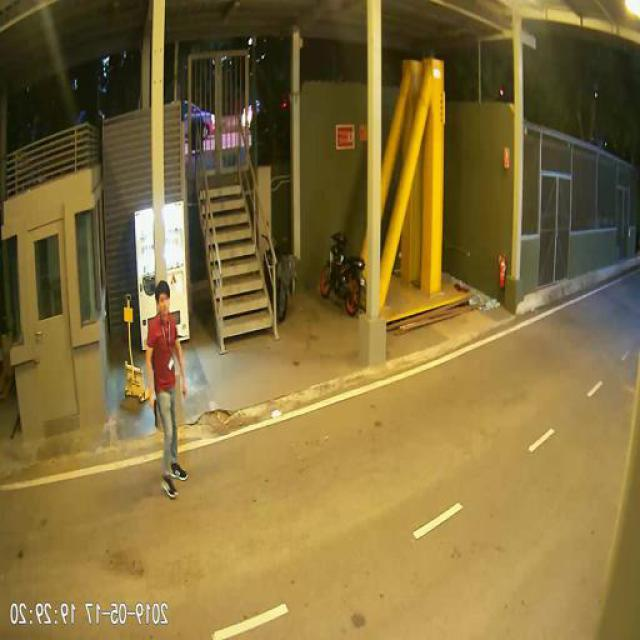Gun: (150, 394, 160, 425)
